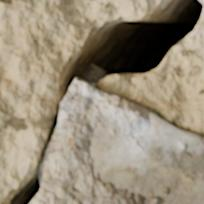brick: (31, 79, 203, 203)
crack: (2, 0, 203, 203)
